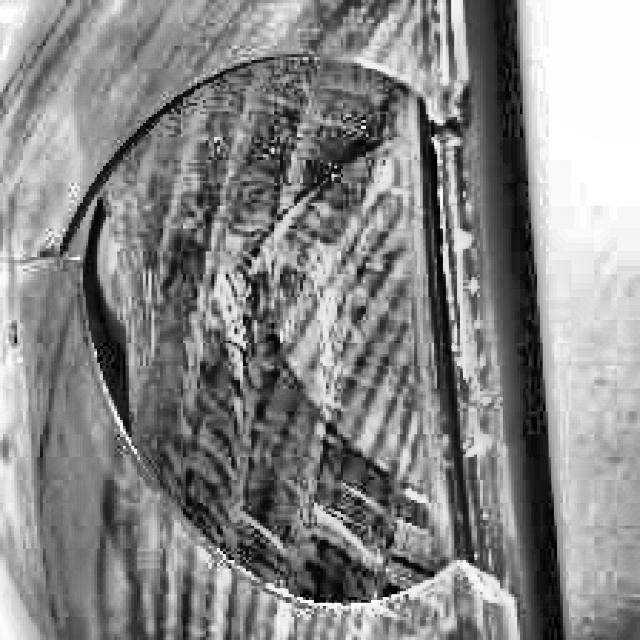tail_lamp: (191, 61, 454, 598), (80, 204, 160, 447)
